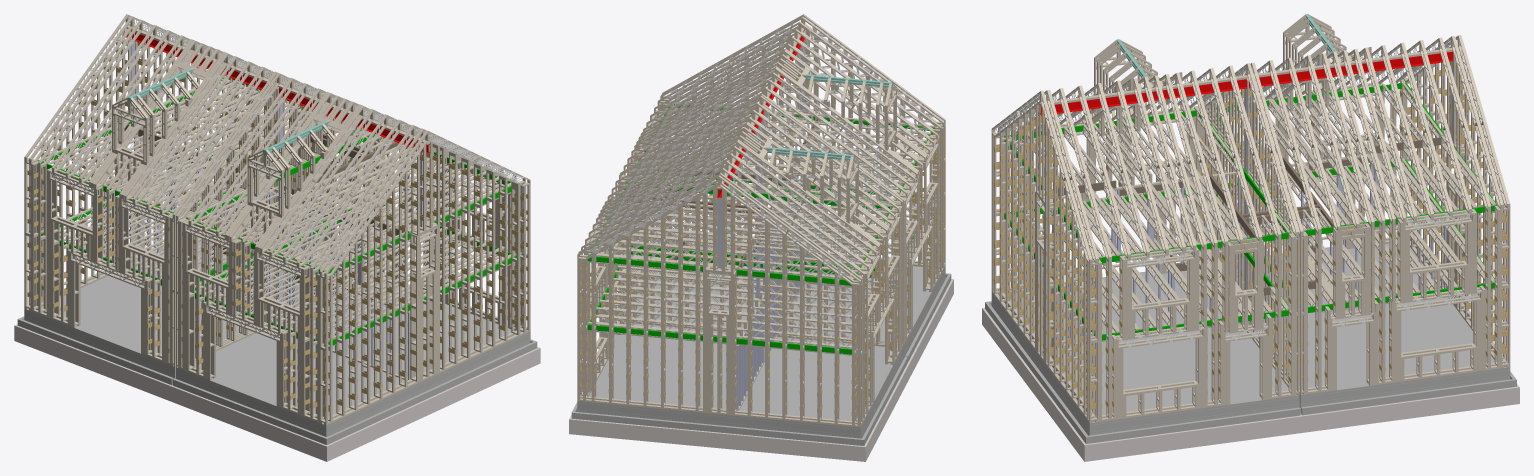
Rendered from millbrook-plots-20-21.glb.
3 views of the same model, side by side, from view 1: azimuth 30°, elevation 25°; view 2: azimuth 150°, elevation 25°; view 3: azimuth 270°, elevation 25° (orthographic). The views are drawn at different scales.
Visible parts, largest first — view 1: part_08, part_09, part_07, part_03, part_02, part_00, part_11, part_12, part_01, part_14, part_10, part_13; view 2: part_08, part_09, part_03, part_02, part_00, part_07, part_11, part_12, part_01, part_13, part_10; view 3: part_08, part_03, part_09, part_07, part_02, part_00, part_11, part_12, part_14, part_10, part_01.
Boxes of the visible parts, x1,y1,x2,y2 form: part_08: (24, 14, 530, 425); part_09: (33, 19, 524, 346); part_07: (27, 41, 528, 412); part_03: (41, 227, 514, 416); part_02: (17, 274, 537, 444); part_00: (14, 324, 540, 461); part_11: (38, 78, 516, 345); part_12: (130, 41, 422, 379); part_01: (18, 311, 536, 445); part_14: (126, 30, 429, 153); part_10: (124, 124, 409, 287); part_13: (128, 68, 327, 154); part_08: (577, 14, 945, 427); part_09: (586, 21, 938, 354); part_03: (589, 243, 930, 421); part_02: (571, 266, 951, 445); part_00: (569, 279, 953, 461); part_07: (580, 41, 943, 415); part_11: (587, 104, 935, 354); part_12: (717, 39, 819, 410); part_01: (572, 275, 946, 445); part_13: (767, 74, 892, 160); part_10: (622, 117, 817, 304); part_08: (991, 14, 1510, 423); part_03: (1010, 243, 1494, 415); part_09: (994, 32, 1504, 347); part_07: (992, 61, 1507, 408); part_02: (985, 238, 1516, 443); part_00: (982, 307, 1519, 461); part_11: (1004, 82, 1497, 340); part_12: (1058, 61, 1455, 346); part_14: (1039, 51, 1460, 115); part_10: (1058, 137, 1440, 297); part_01: (985, 240, 1516, 443).
Size of the model in its own units: 13.91 by 10.01 by 16.19.
